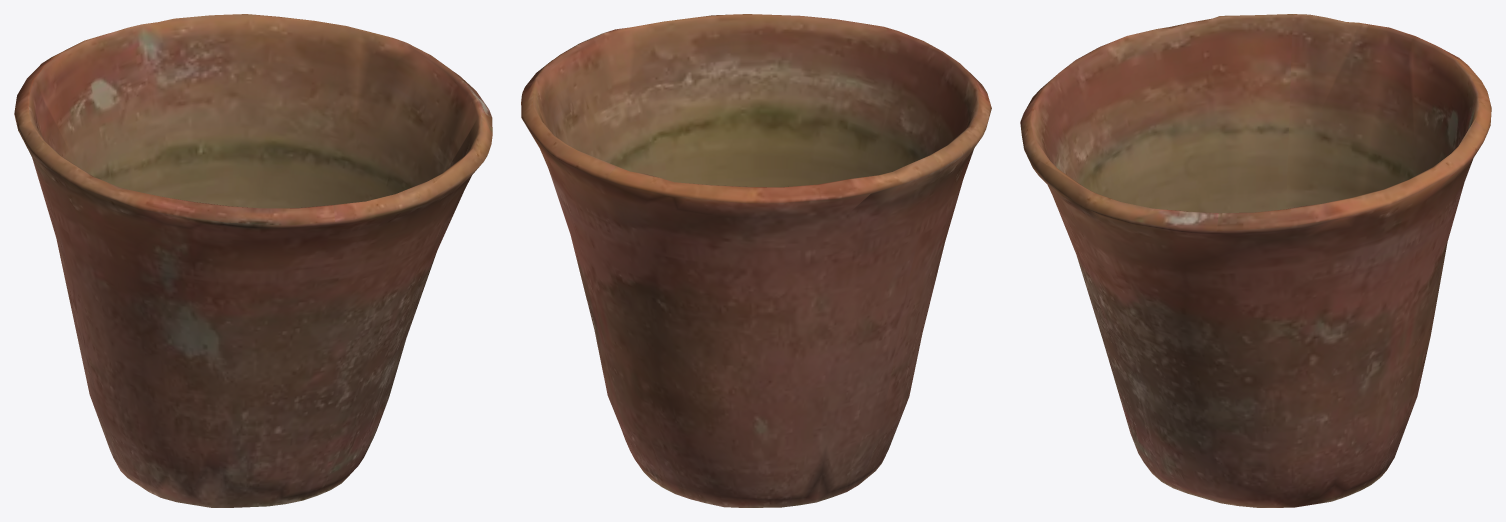
The model's file is planter_pot_clay.glb.
3 views of the same model, side by side, from view 1: azimuth 30°, elevation 25°; view 2: azimuth 150°, elevation 25°; view 3: azimuth 270°, elevation 25° (orthographic).
Parts seen in each view (by area): view 1: planter_pot_clay; view 2: planter_pot_clay; view 3: planter_pot_clay.
Part boxes in pixels (bbox=[...]): planter_pot_clay: bbox=[14, 14, 492, 507]; planter_pot_clay: bbox=[521, 14, 991, 507]; planter_pot_clay: bbox=[1020, 14, 1491, 507].
Size of the model in its own units: 0.266 by 0.2218 by 0.2635.
1 material, 1 textured.
